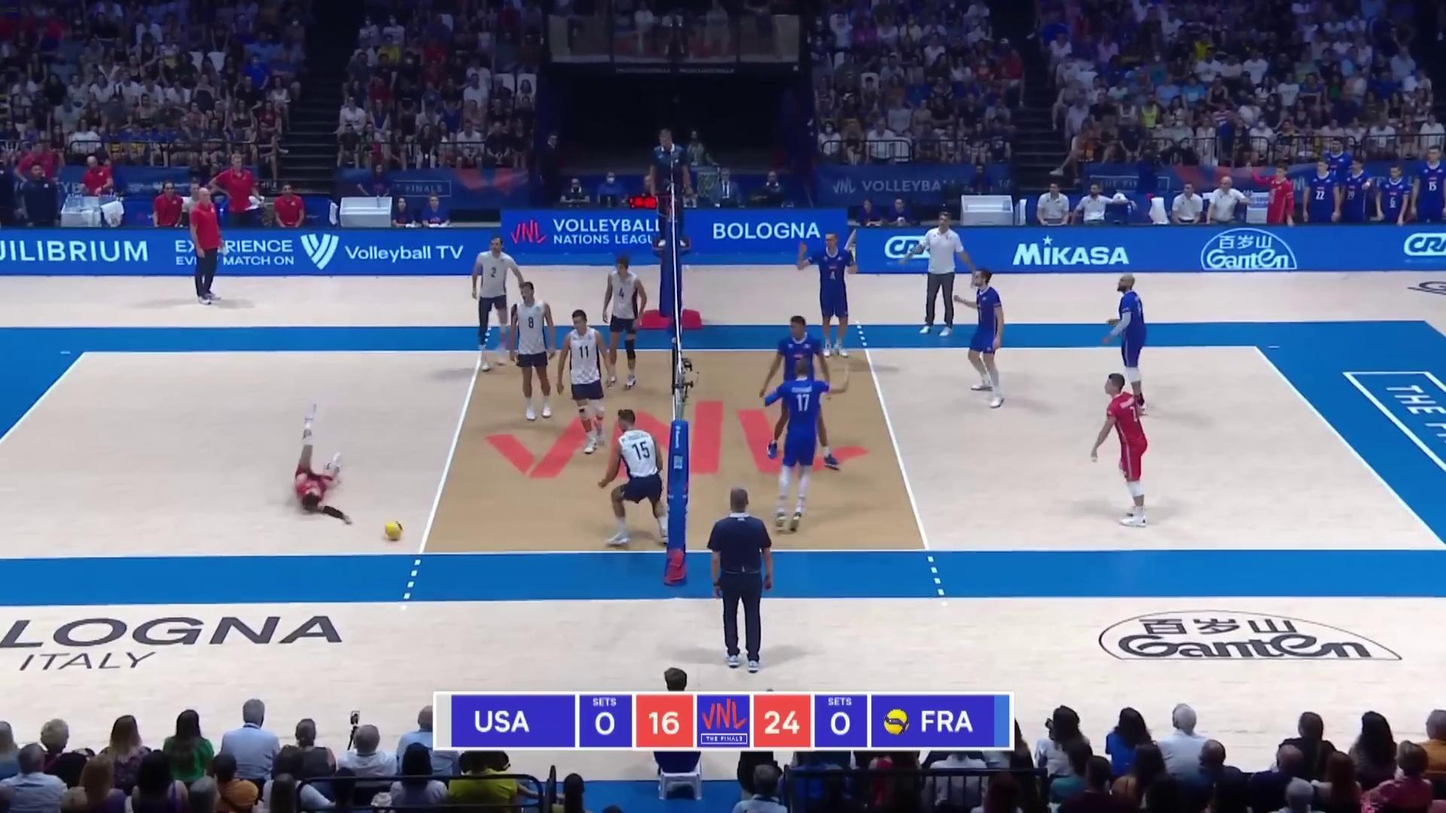player: (762, 357, 832, 531), (763, 313, 839, 470), (1092, 373, 1154, 527), (602, 412, 669, 545), (555, 311, 614, 453), (292, 402, 355, 528), (470, 234, 525, 372), (802, 231, 861, 358), (956, 268, 1008, 408), (506, 285, 556, 426), (601, 258, 651, 387), (1102, 277, 1148, 411)
refree: (706, 487, 778, 673), (648, 130, 691, 250)
